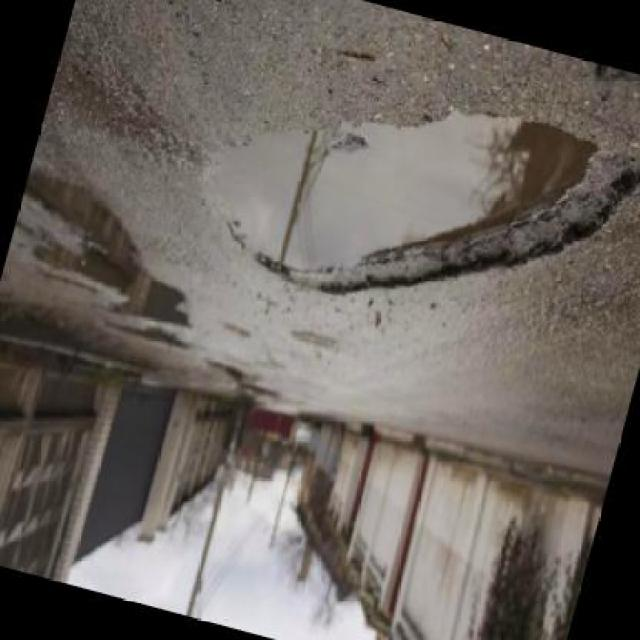pothole1: (177, 37, 638, 374)
